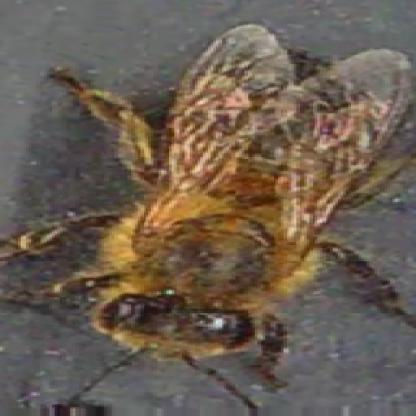bee: (76, 52, 410, 340)
